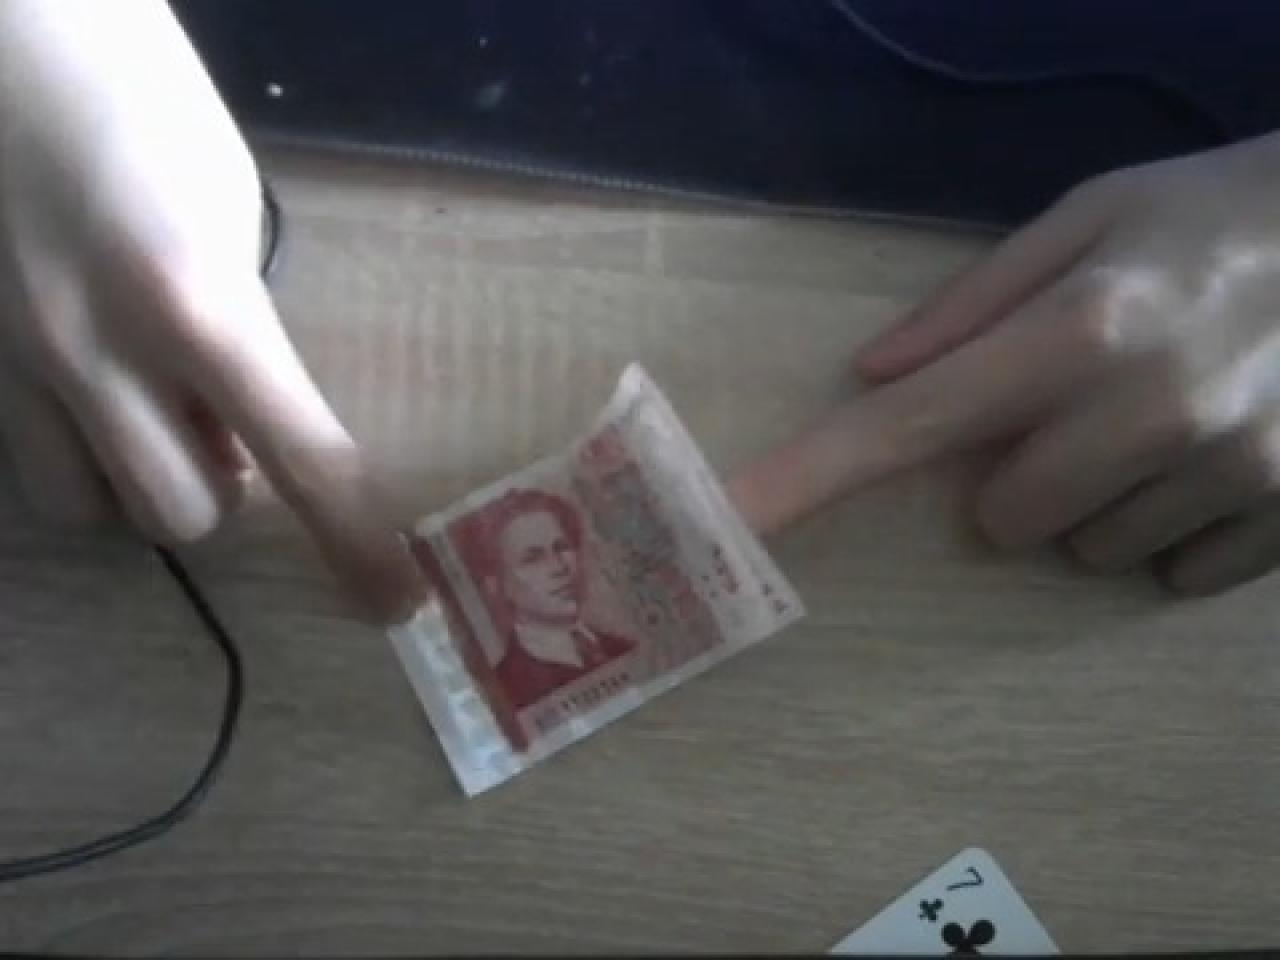5leva: (397, 371, 805, 800)
